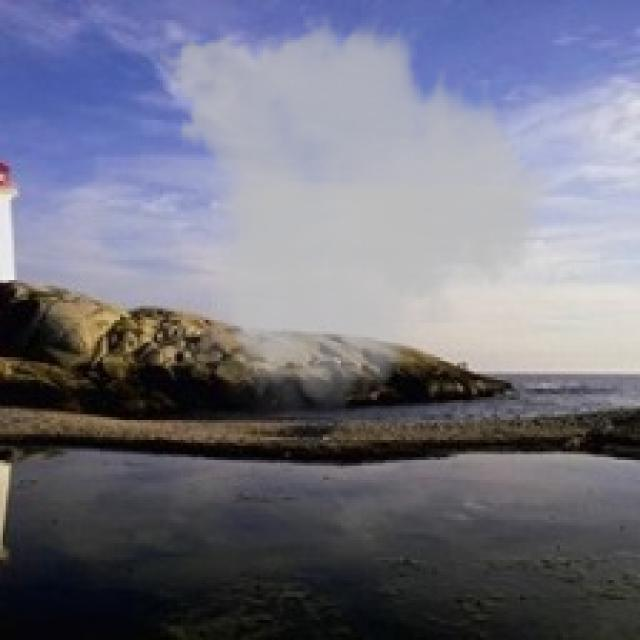smoke: (148, 9, 566, 417)
